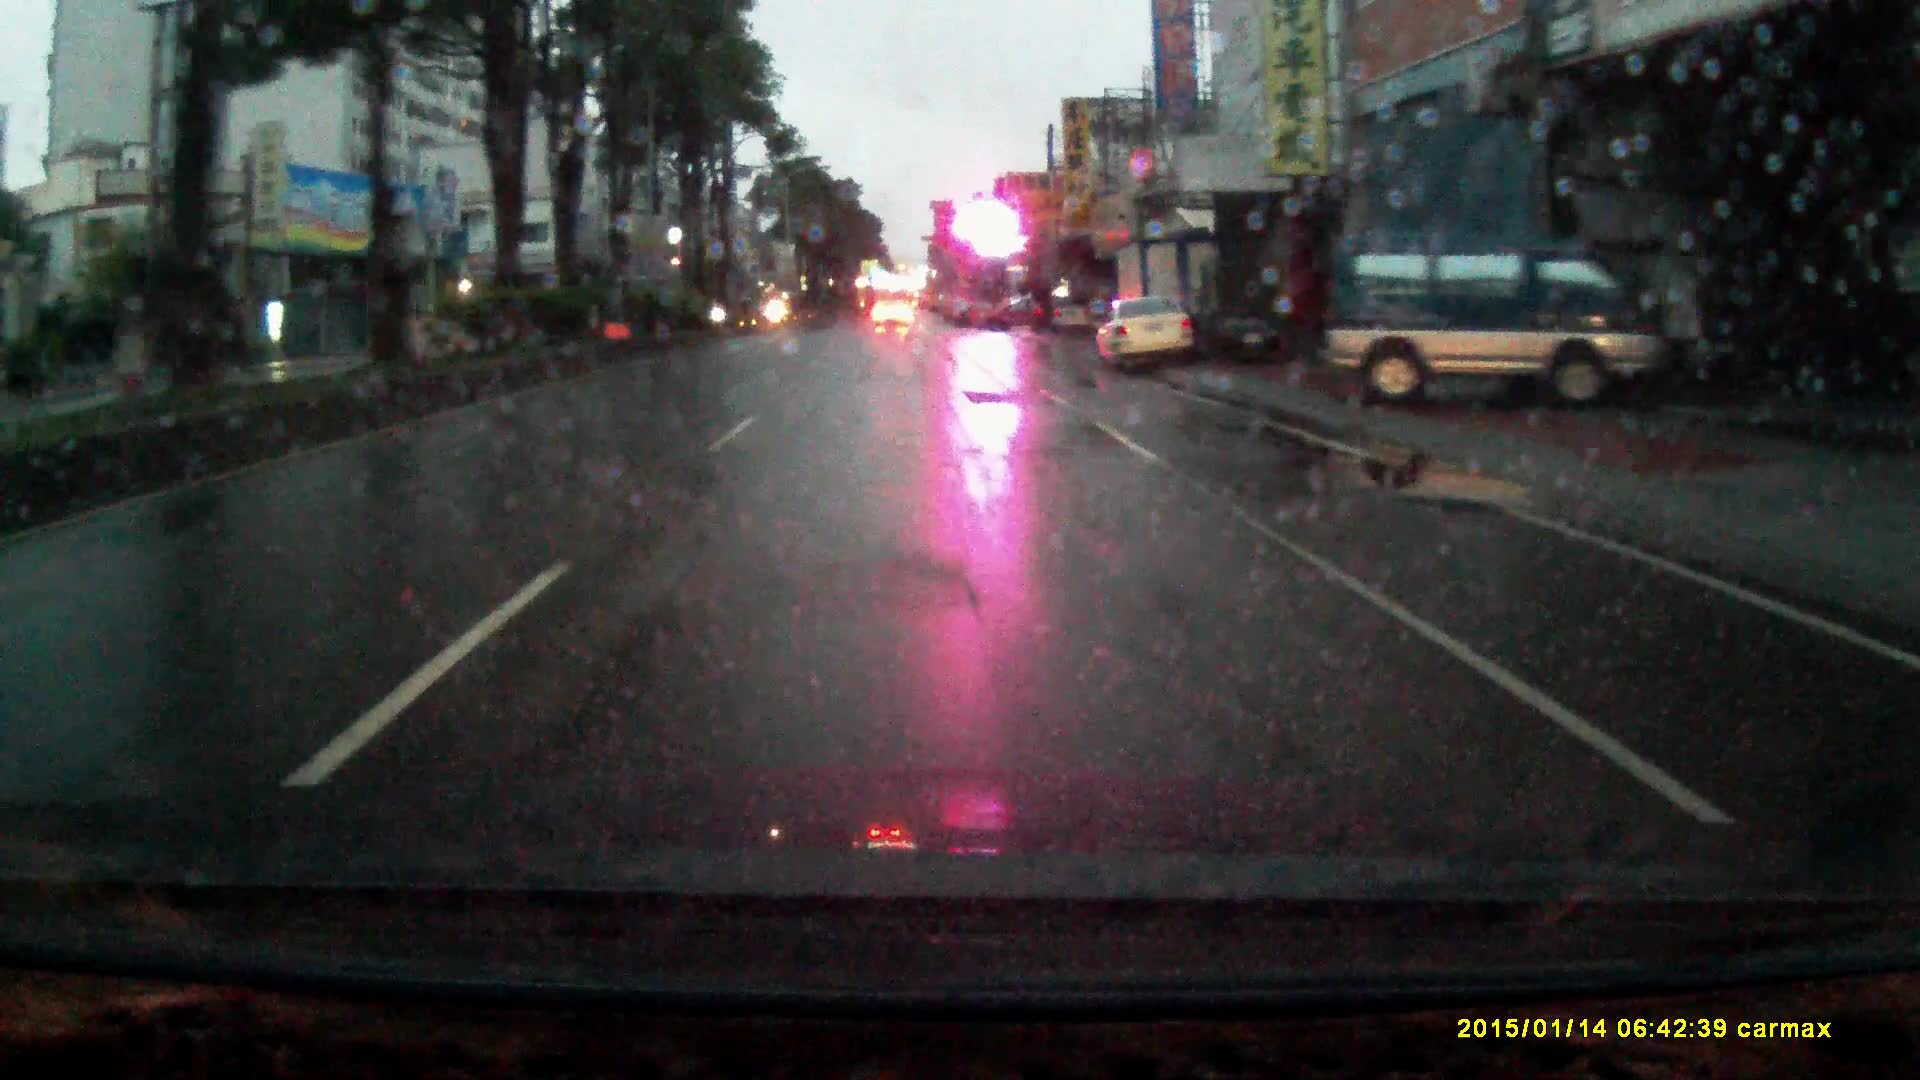vehicle: (1321, 225, 1669, 411), (1108, 231, 1236, 368), (1096, 293, 1203, 371), (973, 291, 1044, 332), (1039, 295, 1093, 336), (876, 295, 910, 328)
